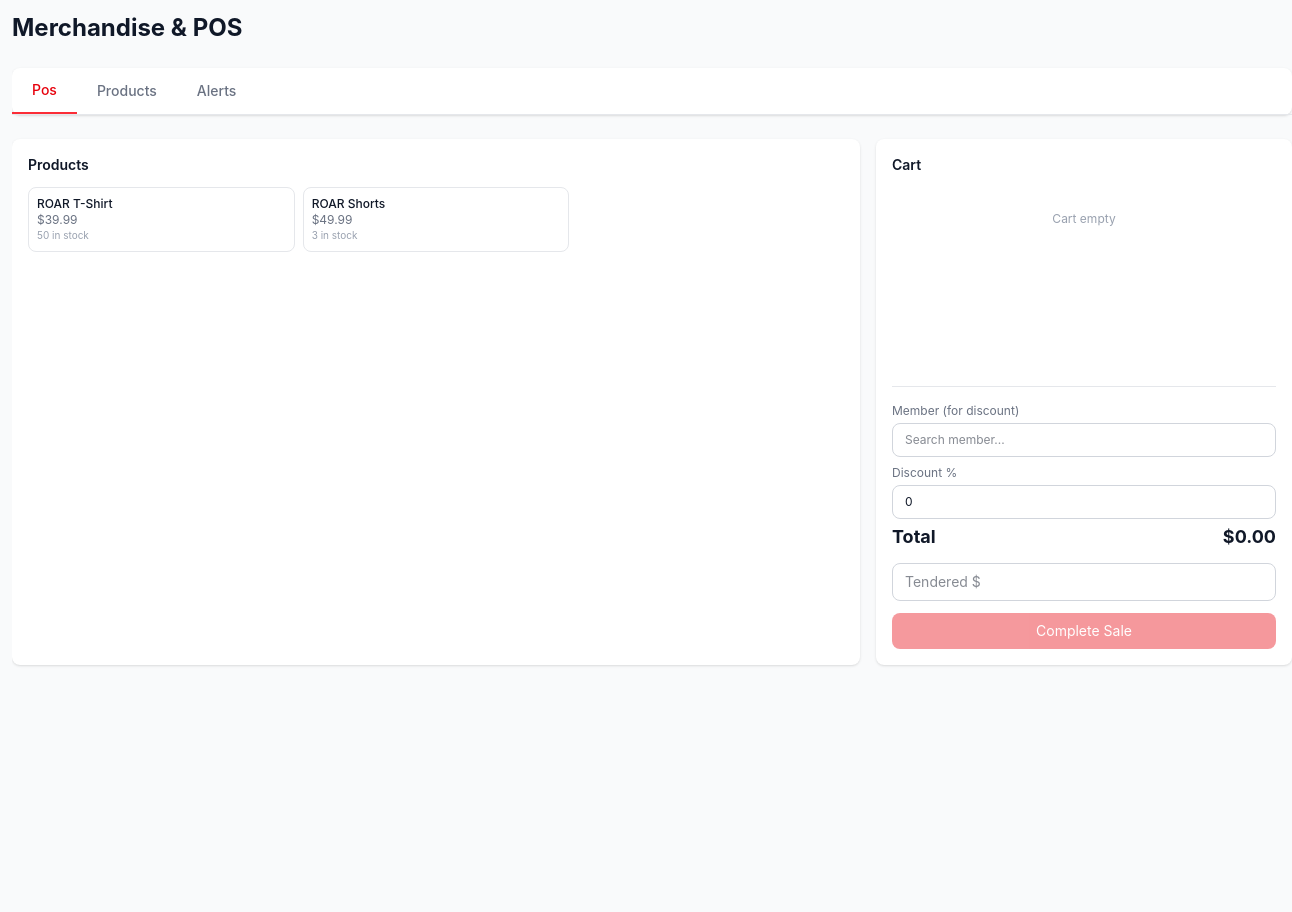
Test: POS Page › updates total with discount
Click the text "ROAR T-Shirt" at (75, 204), box left=37, top=196, right=112, bottom=211
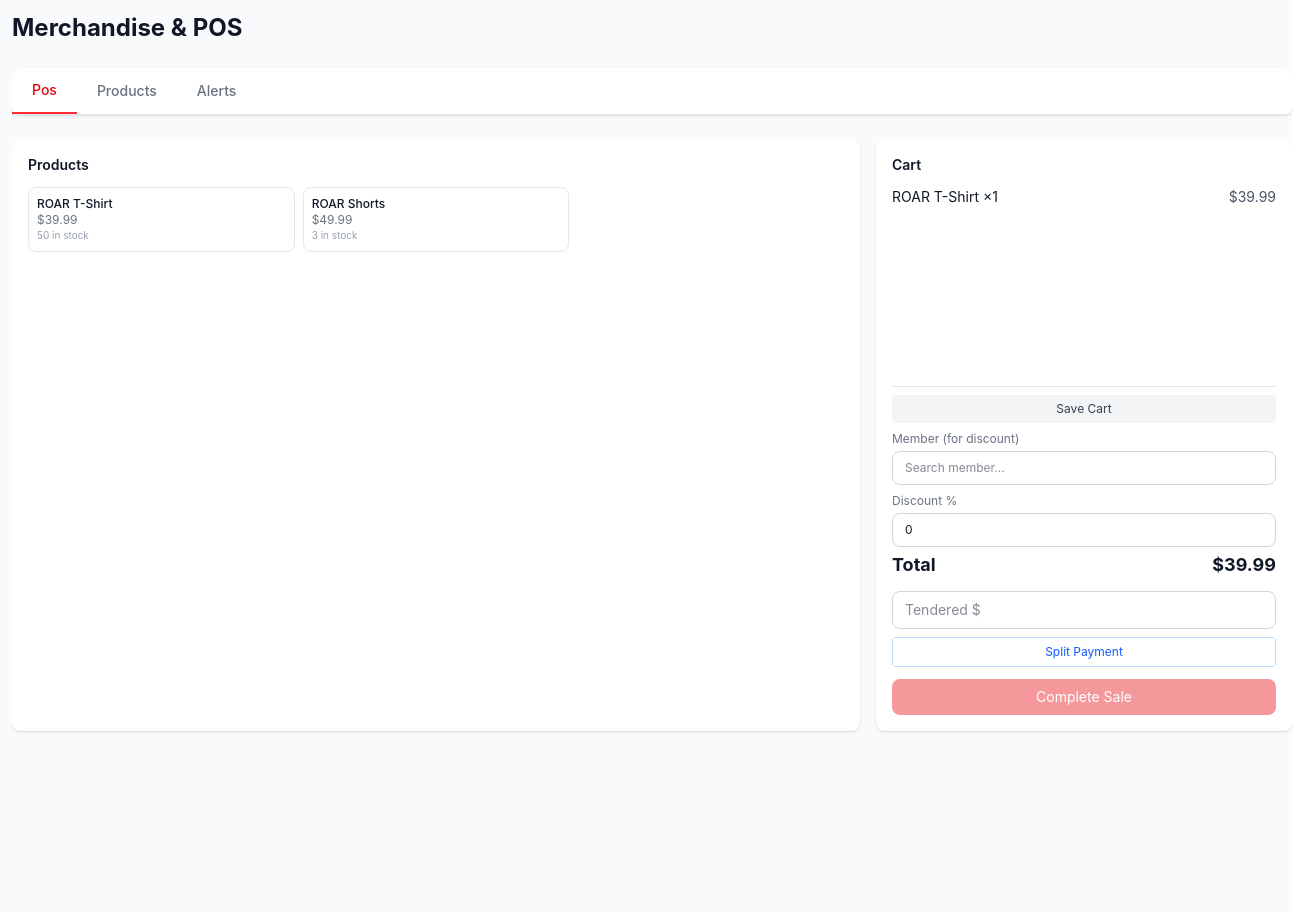
Replace the text in the number field with placeholder "0%" with "10" at (1084, 530), box left=892, top=513, right=1276, bottom=547
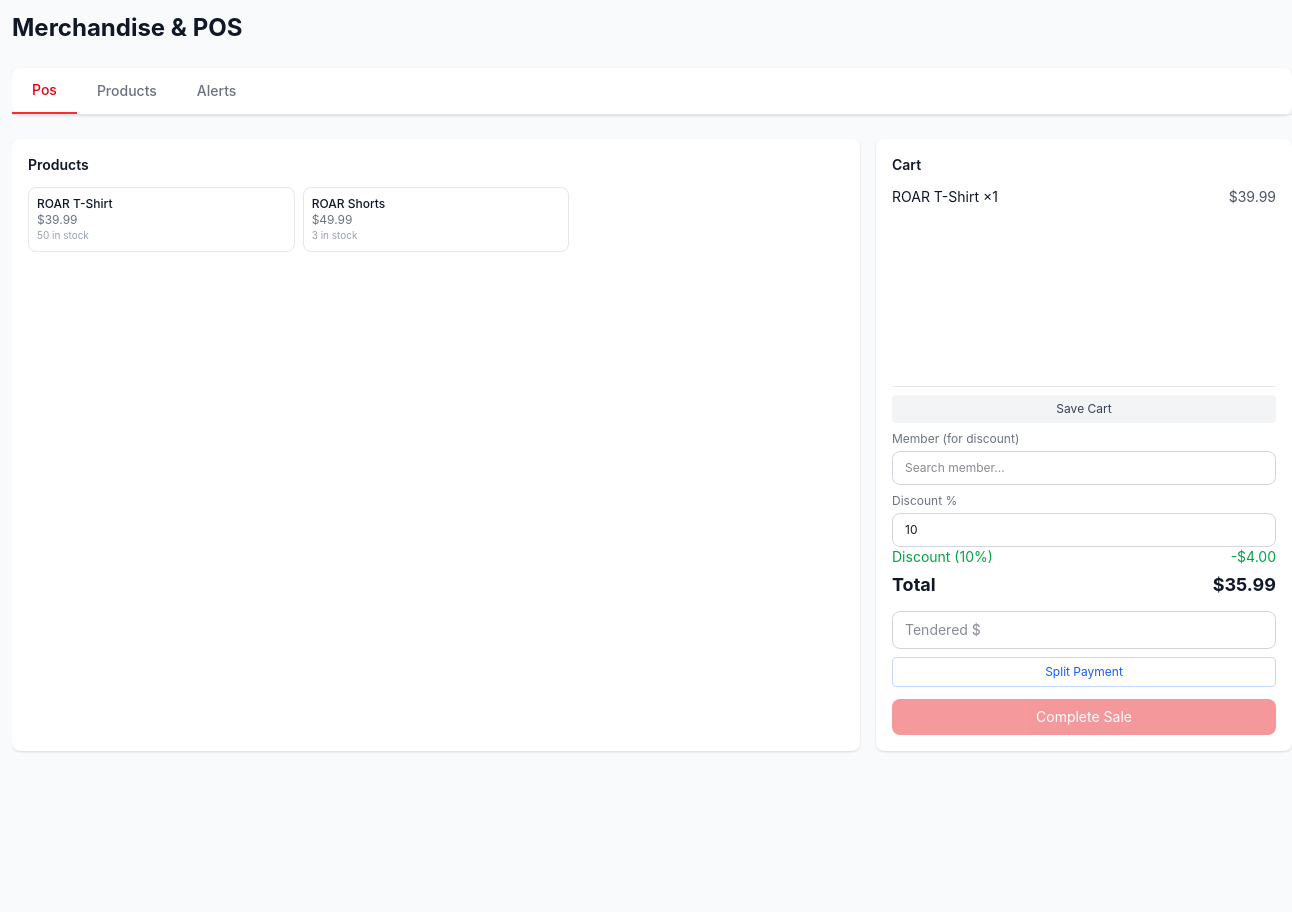
Expected: the text "Discount (10%)" is shown, left=892, top=547, right=993, bottom=567
